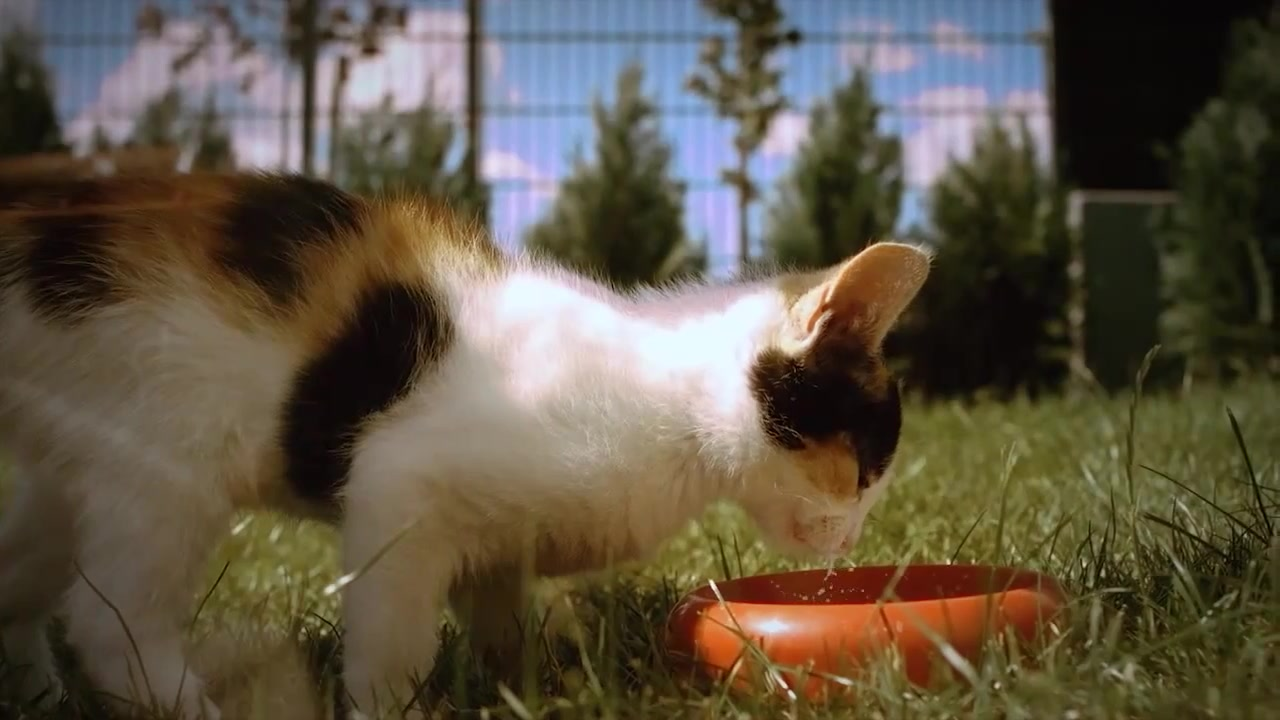cat: (2, 160, 932, 720)
